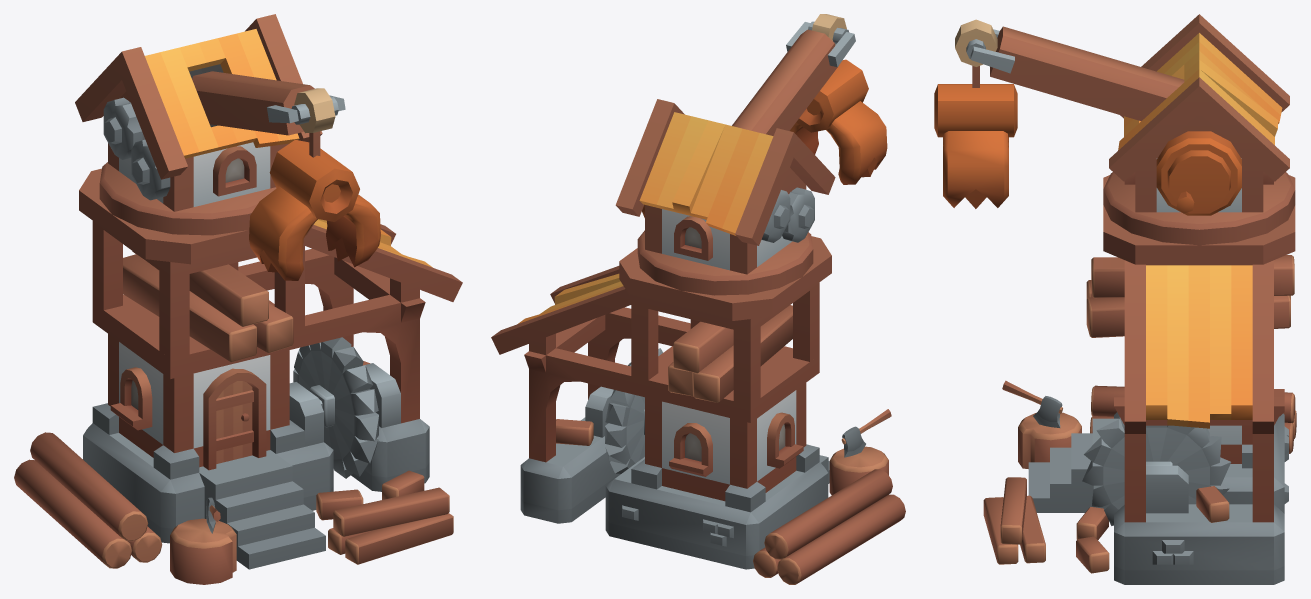
The model's file is lumbermill_yellow.glb.
The picture shows the model from 3 angles, left to right: view 1: azimuth 30°, elevation 25°; view 2: azimuth 150°, elevation 25°; view 3: azimuth 270°, elevation 25°; orthographic projection. The views are drawn at different scales.
Visible parts, largest first — view 1: lumbermill_yellow; view 2: lumbermill_yellow; view 3: lumbermill_yellow.
Part boxes in pixels (left/top/right/bottom): lumbermill_yellow: left=14, top=14, right=462, bottom=584; lumbermill_yellow: left=491, top=14, right=905, bottom=584; lumbermill_yellow: left=934, top=14, right=1296, bottom=584.
Bounding box in the file's own units: 0.6835 × 0.8539 × 0.5946.
Materials: 1 (1 with a texture image).
